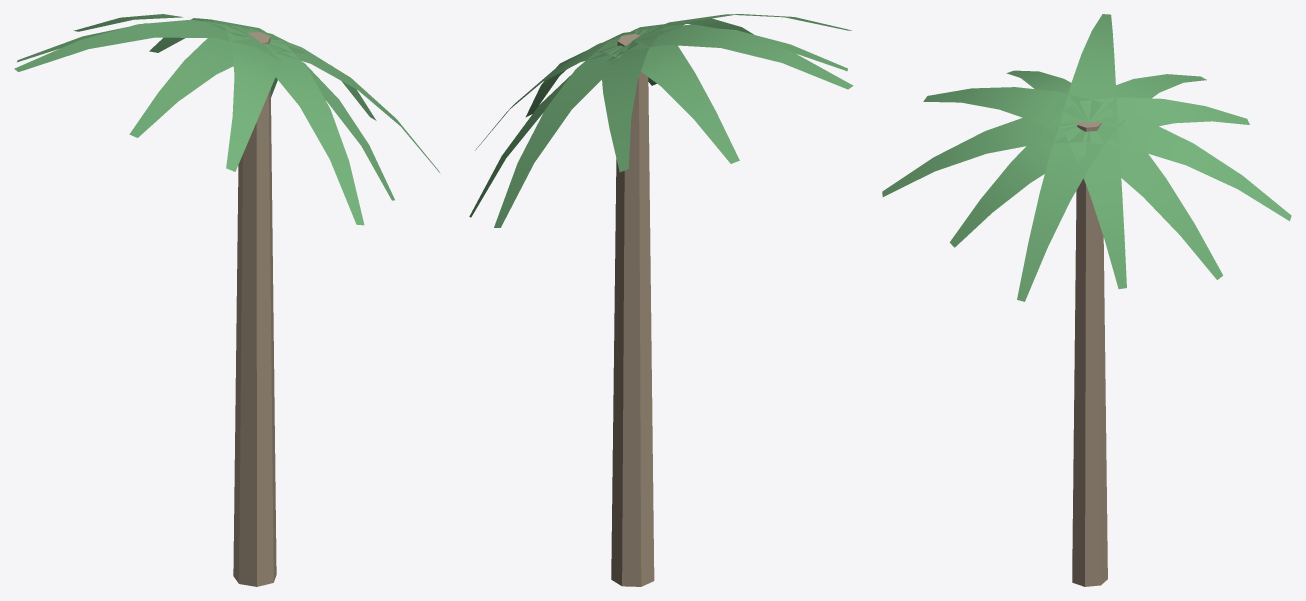
Rendered from palm_royal_a.glb.
The picture shows the model from 3 angles, left to right: view 1: azimuth 30°, elevation 25°; view 2: azimuth 150°, elevation 25°; view 3: azimuth 270°, elevation 25°; orthographic projection. The views are drawn at different scales.
Parts seen in each view (by area): view 1: BLD_palm_royal_a; view 2: BLD_palm_royal_a; view 3: BLD_palm_royal_a.
Boxes of the visible parts, left/top/right/bottom form: BLD_palm_royal_a: left=14, top=14, right=440, bottom=586; BLD_palm_royal_a: left=469, top=14, right=853, bottom=586; BLD_palm_royal_a: left=882, top=14, right=1291, bottom=586.
Bounding box in the file's own units: 5.46 × 7.91 × 6.09.
